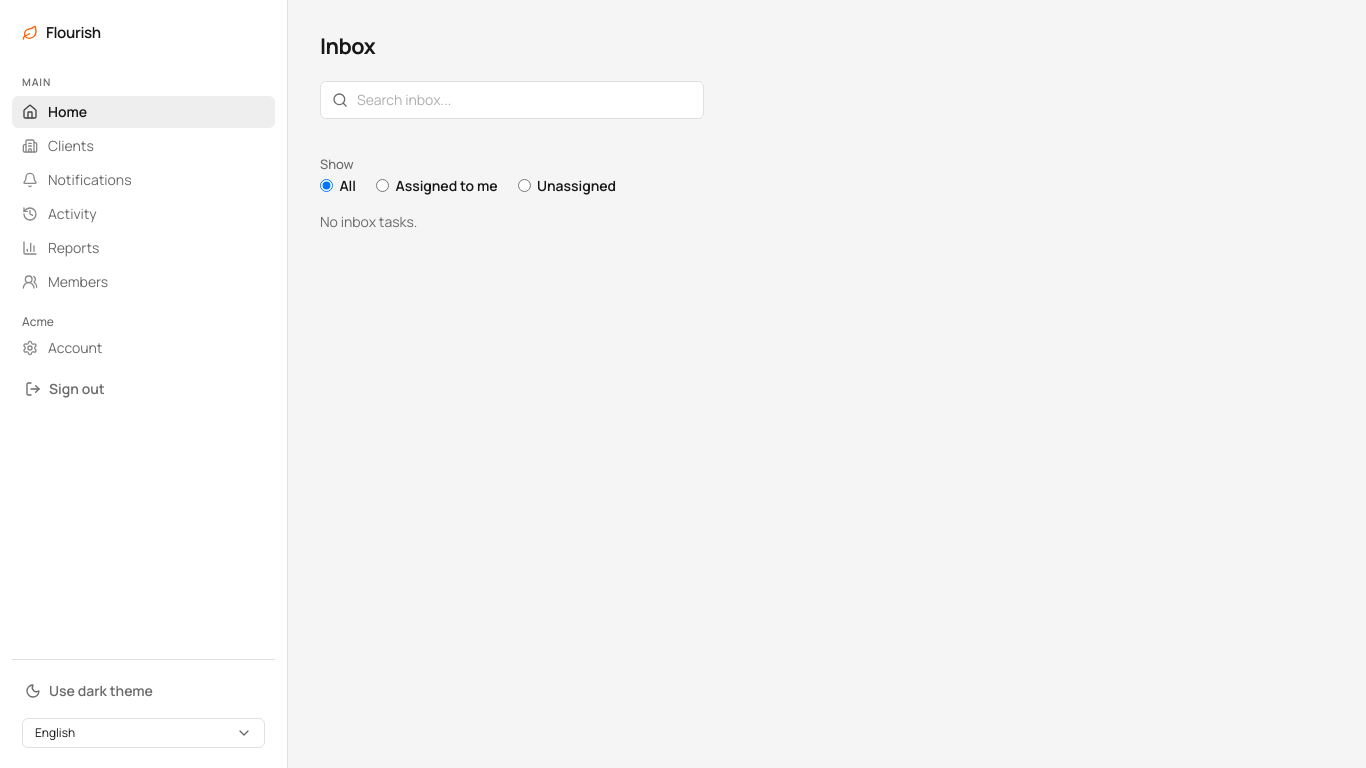
Test case: useLogout › clears the session after a successful logout
The width and height of the screenshot is (1366, 768).
Click the button "Sign out" at (77, 389), box left=12, top=370, right=275, bottom=408
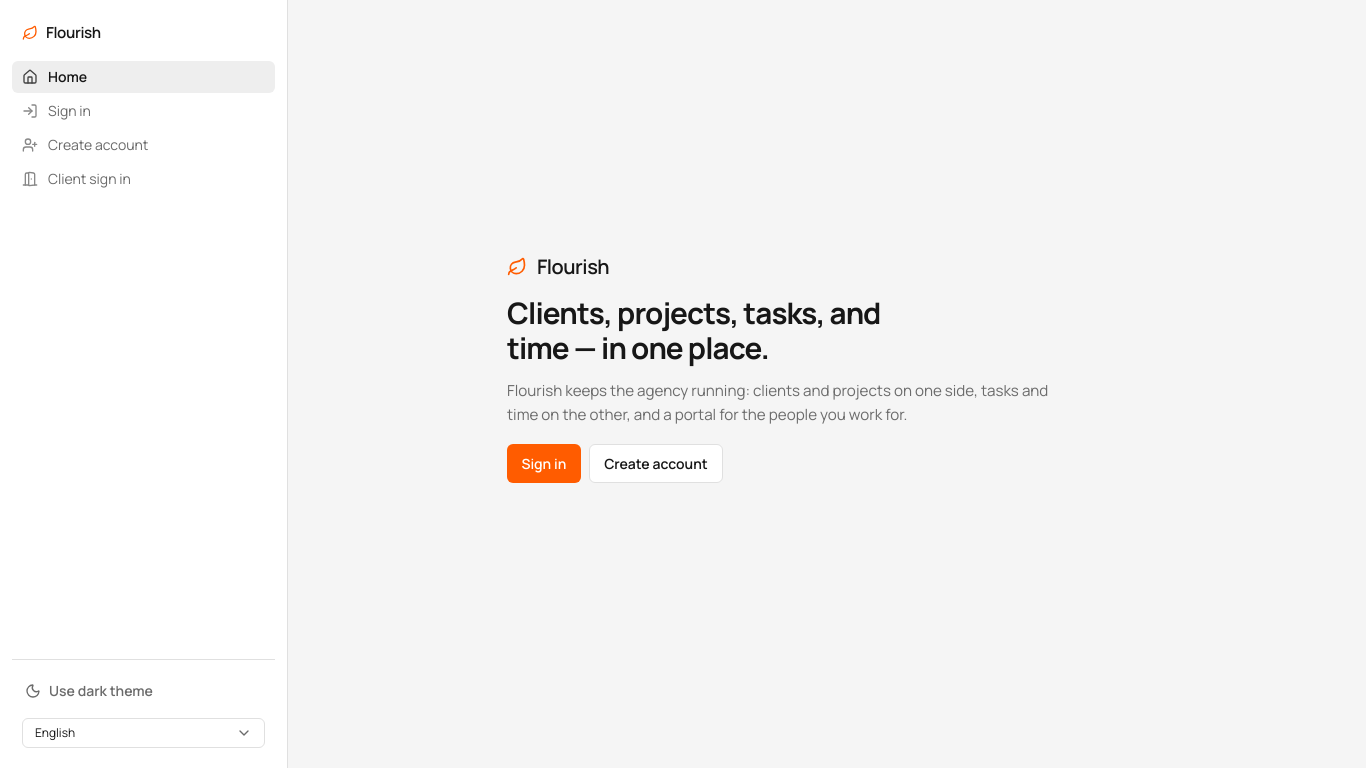
Expected: the link "Sign in" below "Home" is shown, left=22, top=101, right=91, bottom=120
